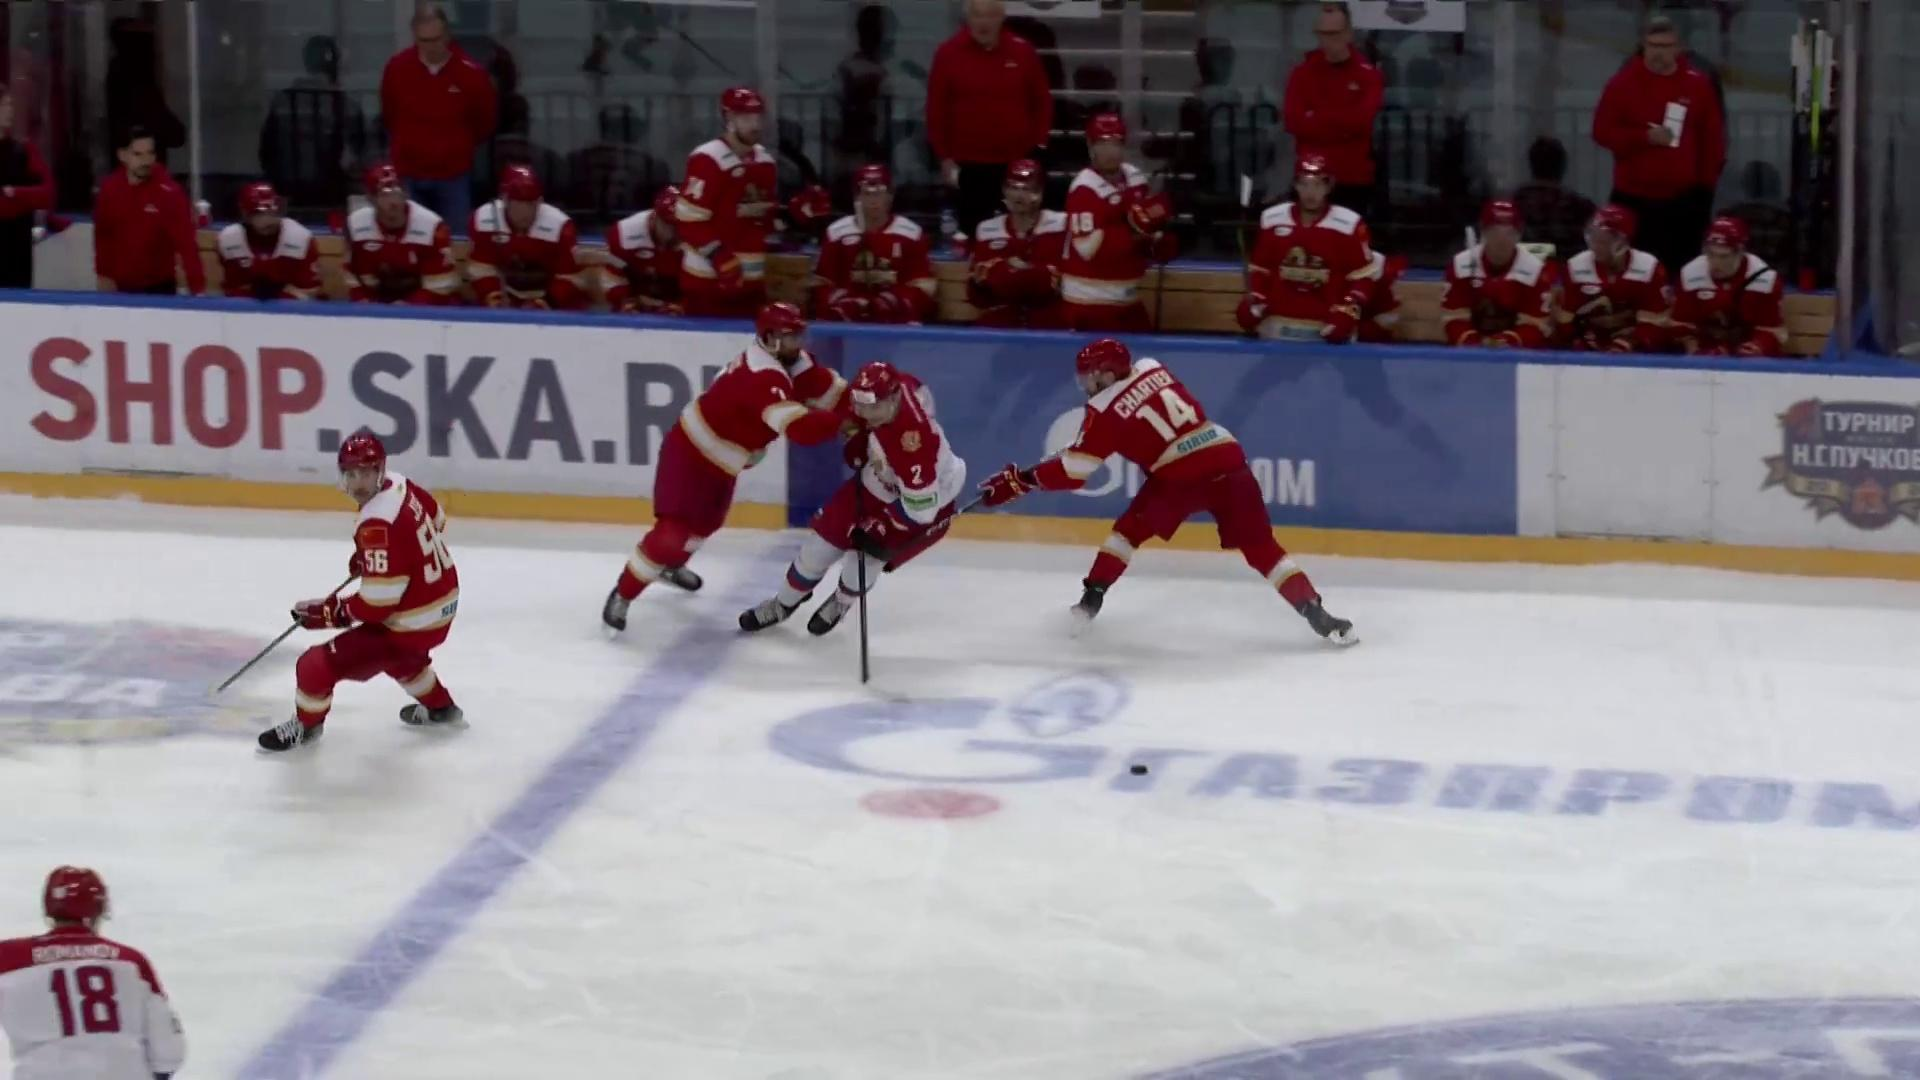ball: (1126, 764, 1153, 778)
